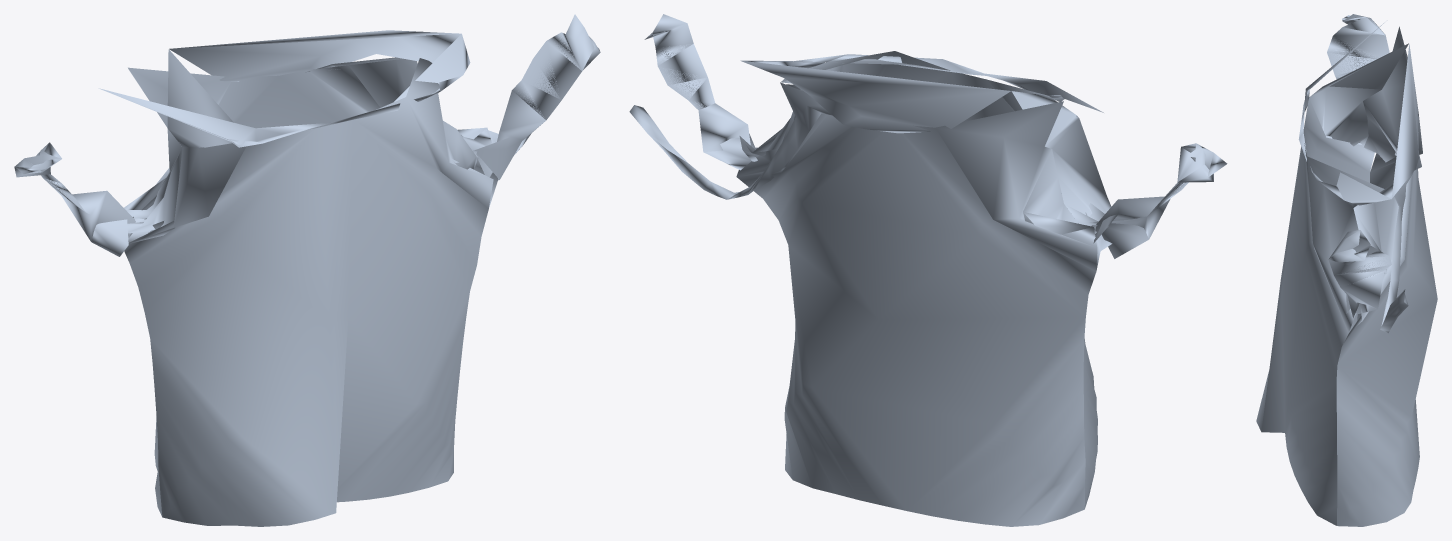
File: frame_033.glb
The picture shows the model from 3 angles, left to right: view 1: azimuth 30°, elevation 25°; view 2: azimuth 150°, elevation 25°; view 3: azimuth 270°, elevation 25°; orthographic projection. The views are drawn at different scales.
Parts seen in each view (by area): view 1: panel.front, panel.back, panel.neck_band, panel.sleeve.right, panel.sleeve.left; view 2: panel.back, panel.neck_band, panel.front, panel.sleeve.right, panel.sleeve.left; view 3: panel.front, panel.back, panel.neck_band, panel.sleeve.right, panel.sleeve.left.
Part boxes in pixels (x1,y1,x2,y2): panel.front: [124, 49, 493, 526]; panel.back: [124, 59, 498, 516]; panel.neck_band: [98, 30, 531, 154]; panel.sleeve.right: [474, 14, 600, 180]; panel.sleeve.left: [14, 142, 135, 256]; panel.back: [736, 84, 1100, 526]; panel.neck_band: [629, 54, 1103, 199]; panel.front: [781, 51, 1112, 508]; panel.sleeve.right: [644, 14, 754, 170]; panel.sleeve.left: [1093, 143, 1227, 258]; panel.front: [1256, 43, 1408, 525]; panel.back: [1336, 26, 1437, 526]; panel.neck_band: [1298, 20, 1421, 333]; panel.sleeve.right: [1328, 230, 1391, 318]; panel.sleeve.left: [1327, 14, 1389, 142].
Size of the model in its own units: 1.05 by 0.7838 by 0.337.
